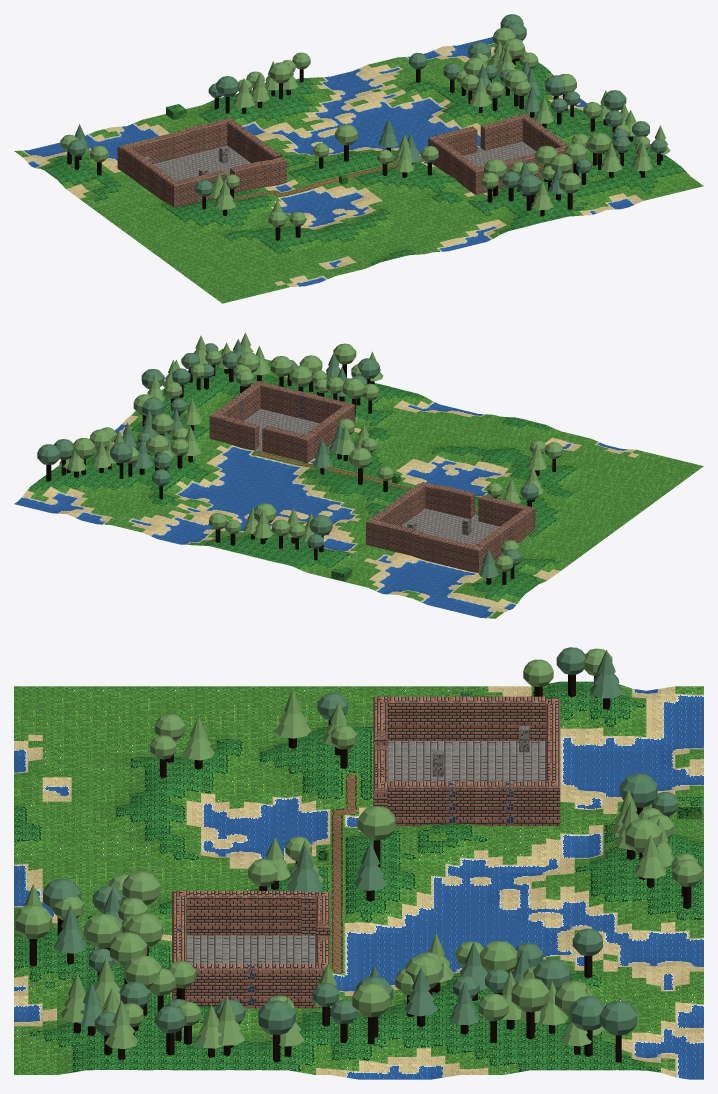
The model's file is demo.glb.
3 views of the same model, one above another, from view 1: azimuth 30°, elevation 25°; view 2: azimuth 150°, elevation 25°; view 3: azimuth 270°, elevation 25° (orthographic). The views are drawn at different scales.
Visible parts, largest first — view 1: PB_demo_Tilemap_demo, PB_demo_TilemapTrees_demo_Mesh; view 2: PB_demo_Tilemap_demo, PB_demo_TilemapTrees_demo_Mesh; view 3: PB_demo_Tilemap_demo, PB_demo_TilemapTrees_demo_Mesh.
Boxes of the visible parts, x1,y1,x2,y2 form: PB_demo_Tilemap_demo: [14, 37, 703, 303]; PB_demo_TilemapTrees_demo_Mesh: [60, 14, 670, 240]; PB_demo_Tilemap_demo: [14, 348, 703, 618]; PB_demo_TilemapTrees_demo_Mesh: [37, 332, 563, 584]; PB_demo_Tilemap_demo: [14, 681, 703, 1079]; PB_demo_TilemapTrees_demo_Mesh: [14, 647, 702, 1062].
Size of the model in its own units: 64.14 by 5.56 by 48.
4 materials, 2 textured.
